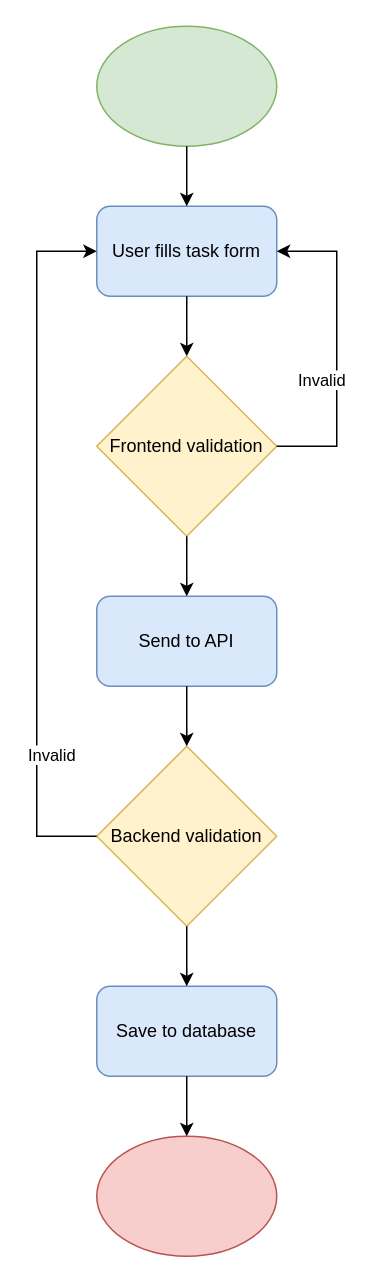
Image size: 375x1283. Some labels were removed from this diagram. Here are the shapes that lost their labels. From the top down, the centre of each, then its label:
At point (186, 85): "Start".
At point (186, 1195): "End".
